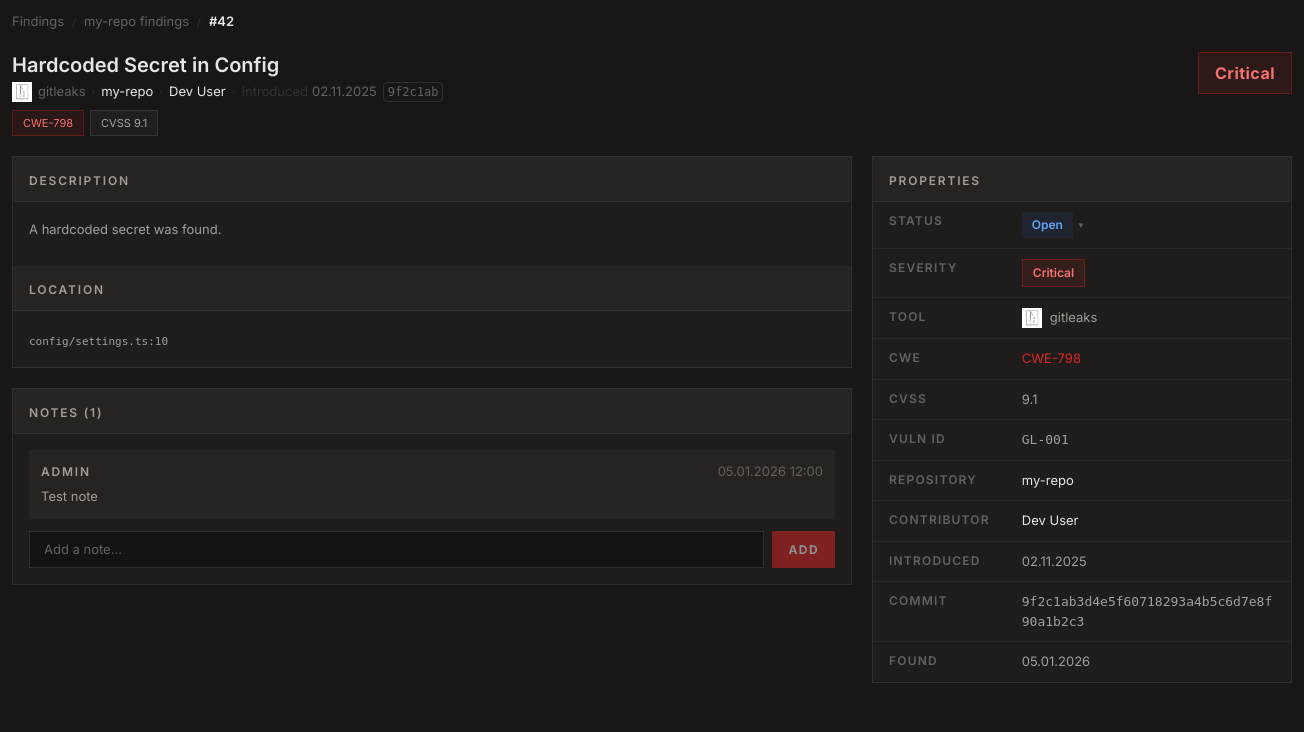
Test: FindingDetailPage › renders status action buttons after opening dropdown
The width and height of the screenshot is (1304, 732).
Click the button "Open ▼".
click(1053, 225)  # box [1022,212,1085,238]
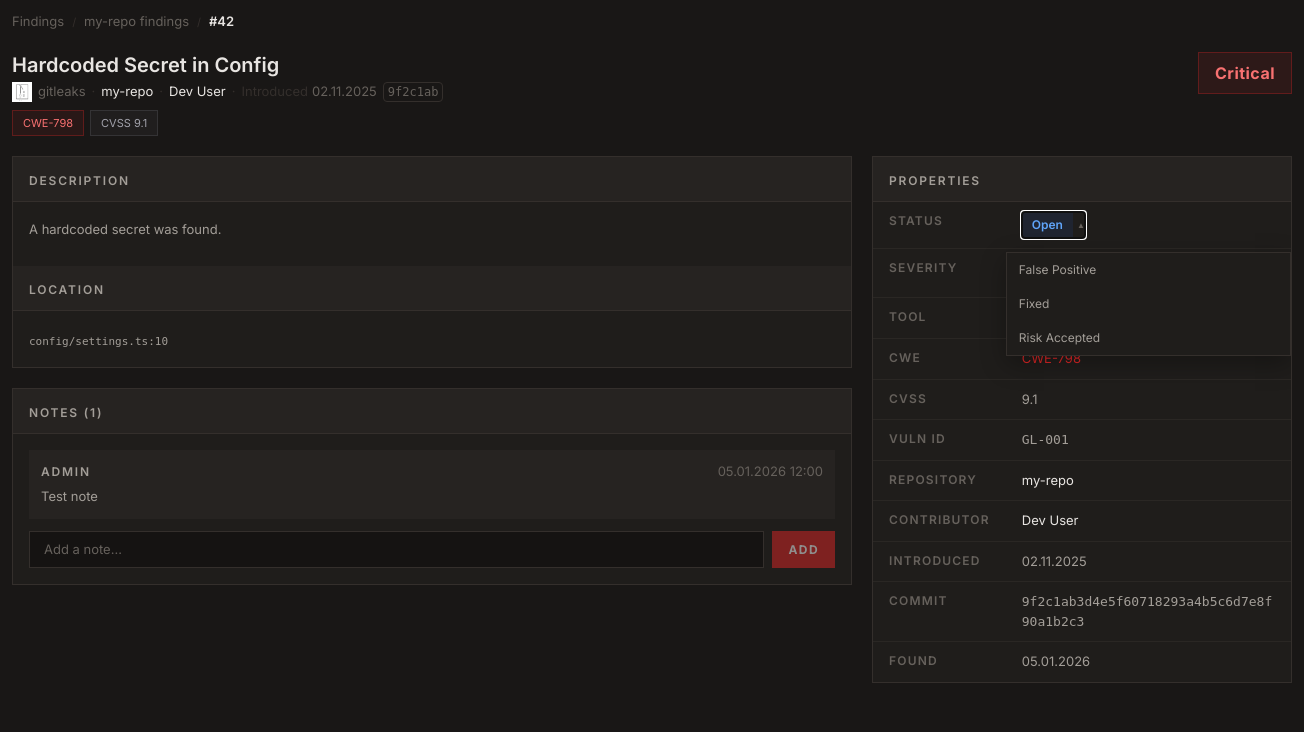
Expected: the button "False Positive" is shown, [1007,253,1290,287]
Expected: the button "Fixed" is shown, [1007,287,1290,321]
Expected: the button "Risk Accepted" is shown, [1007,321,1290,355]
